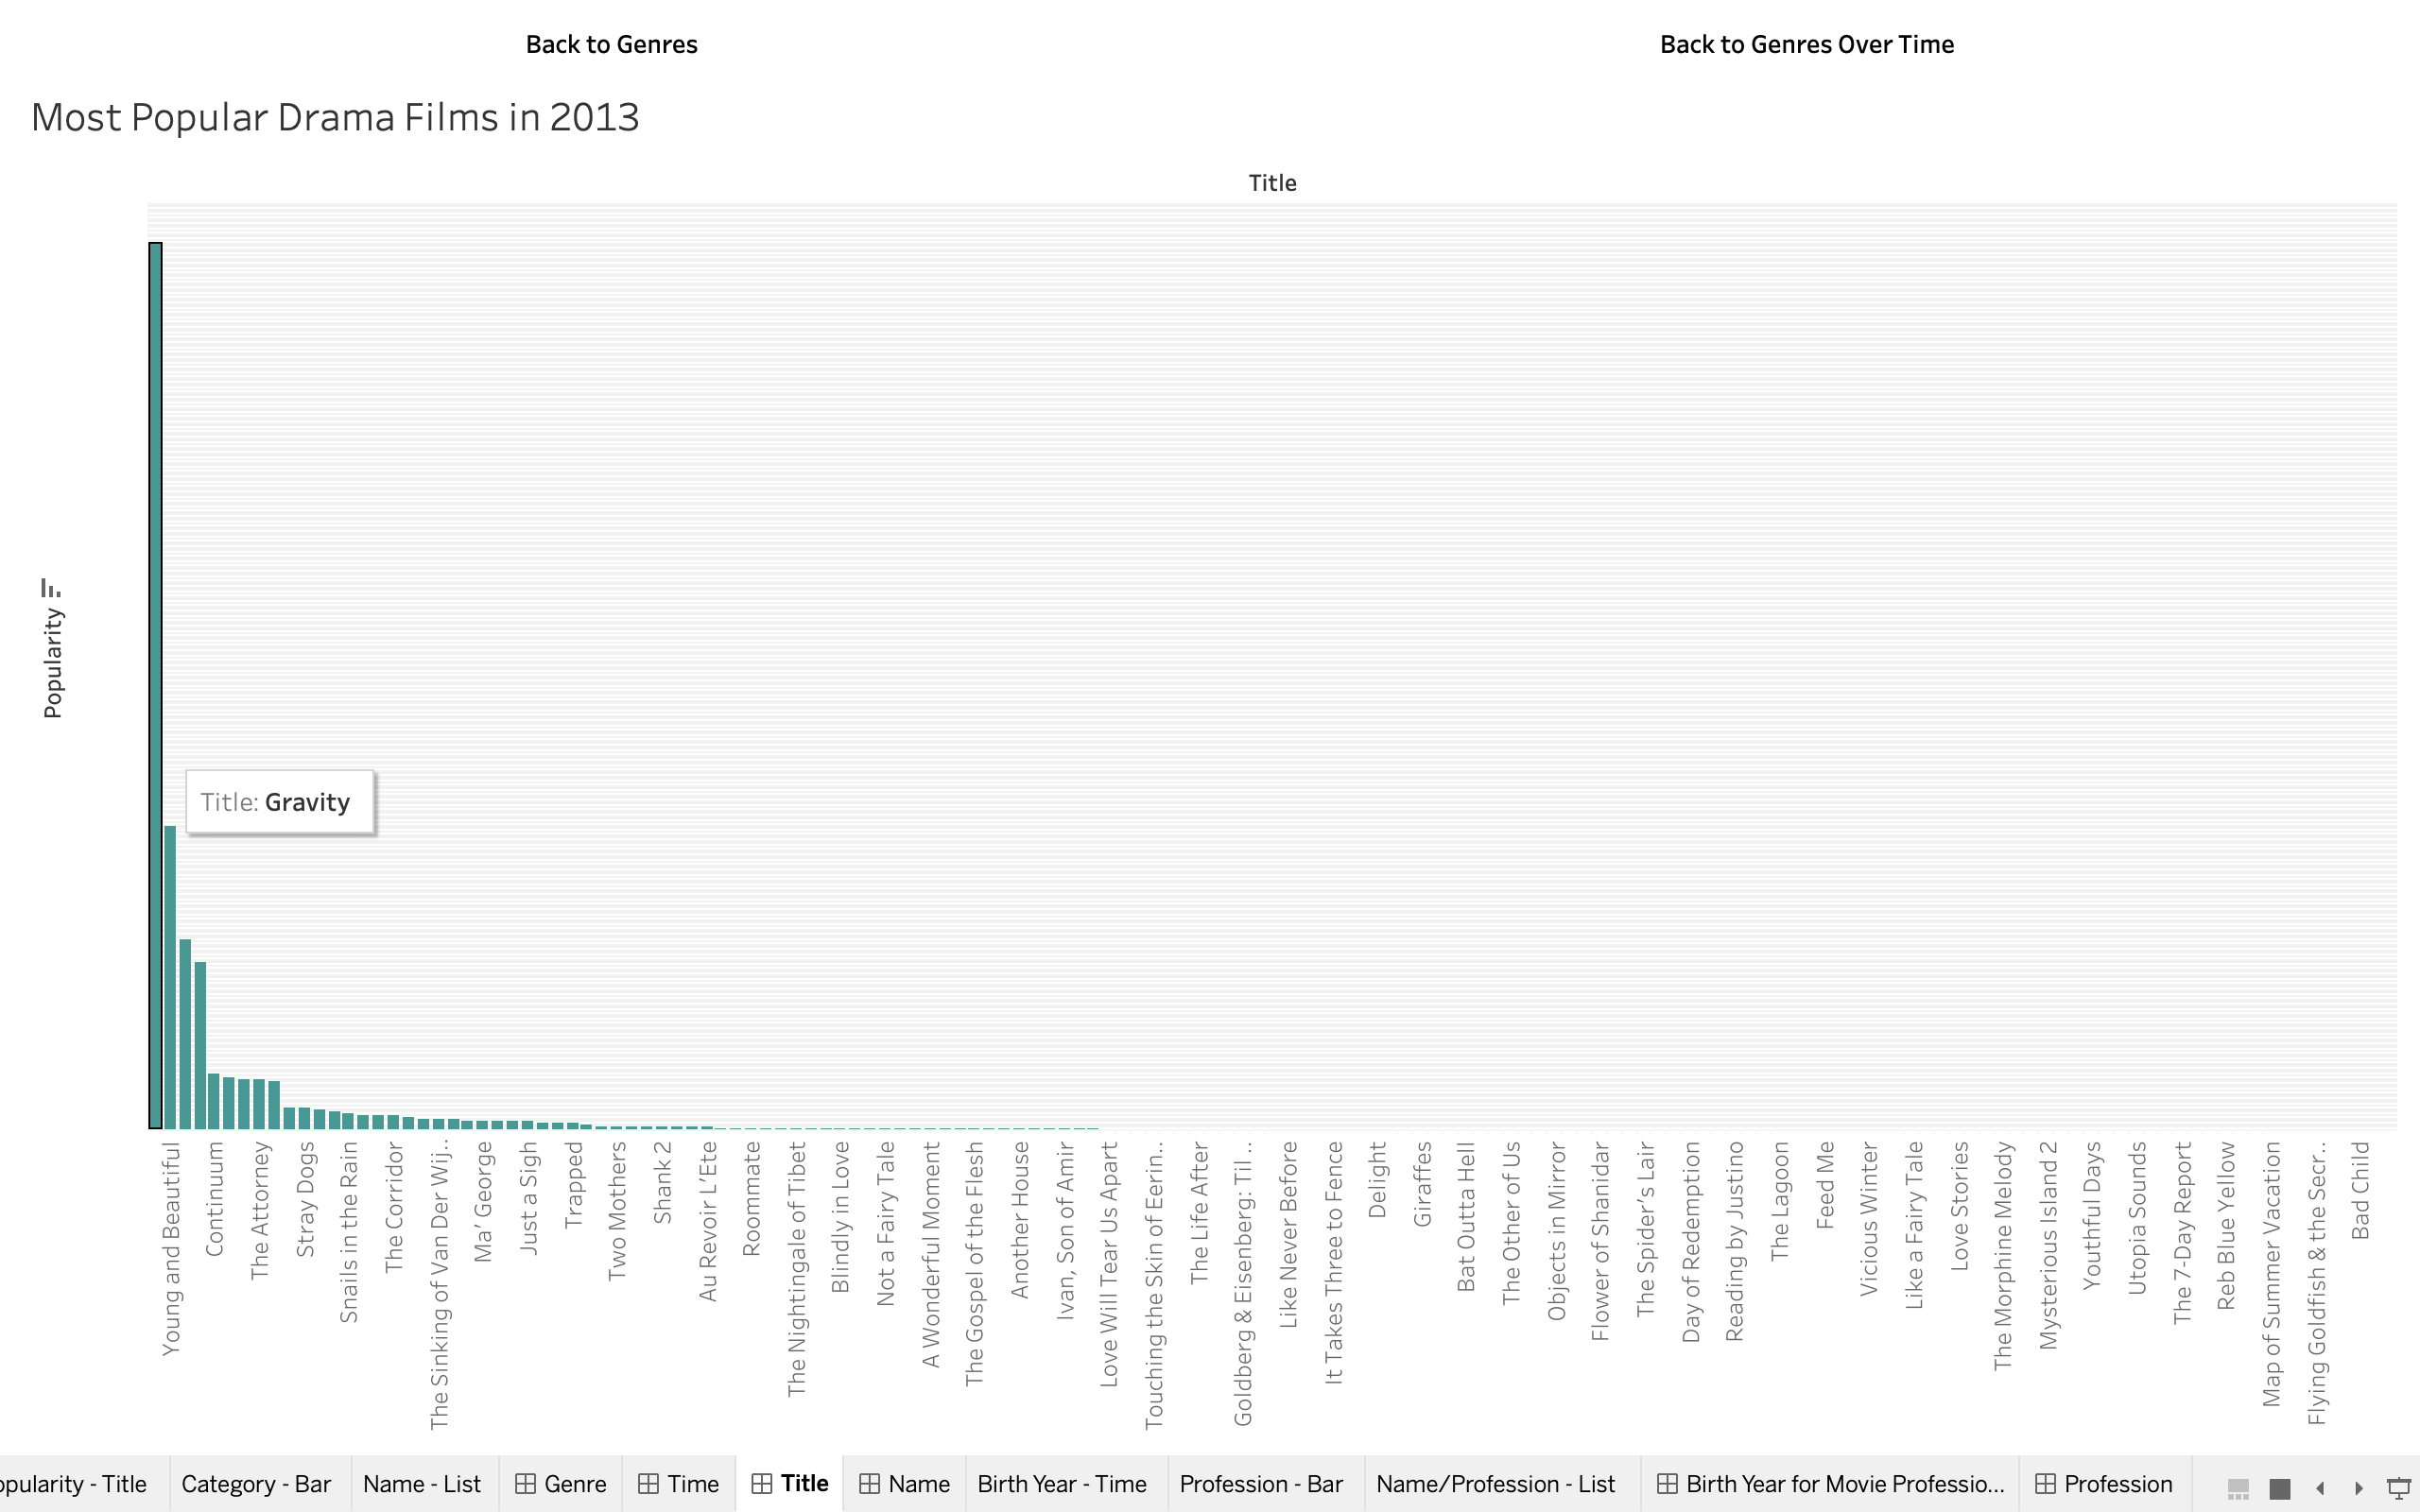

The dashboard page shown, as its layout file describes it:
{"tool":"tableau","page":{"name":"Title","canvas":[1000,1000],"units":"permille","ordinal":5},"visuals":[{"type":"dashboard-object","box":[6.2,10.4,493.6,39.7]},{"type":"dashboard-object","box":[499.8,10.4,493.9,39.7]},{"type":"worksheet","title":"Popularity - Title","mark":"Automatic","rows":["Calculation_95631183151927296"],"cols":["title"],"box":[6.2,50.1,987.5,939.5]}]}

Visuals, with their boxes on the dashboard's canvas, which has no fixed pixel size, in thousandths of its width and height (x1, y1, x2, y2). These are canvas units, not pixel positions in the 2420x1512 screenshot, which may show the page scaled, cropped or inside an application window:
dashboard-object: 6,10,500,50
dashboard-object: 500,10,994,50
"Popularity - Title" worksheet: 6,50,994,990
